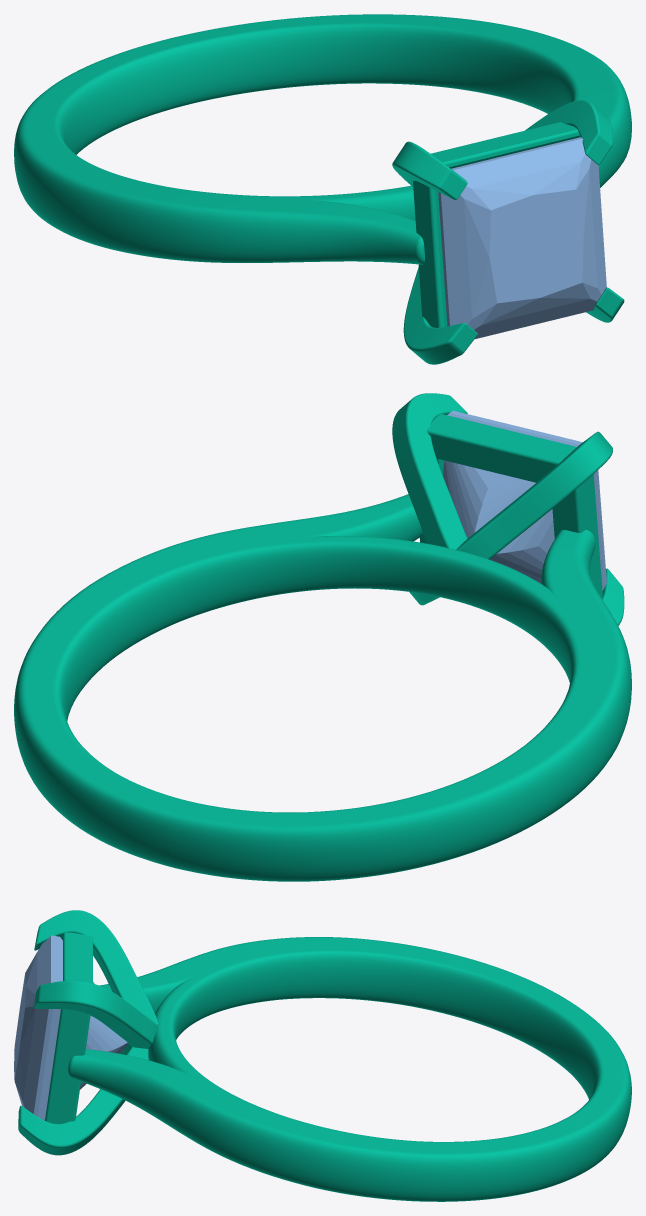
3 renders of one model, top to bottom at view 1: azimuth 30°, elevation 25°; view 2: azimuth 150°, elevation 25°; view 3: azimuth 270°, elevation 25°, orthographic. The views are drawn at different scales.
Visible parts, largest first — view 1: JTC 7972(base).3dm, Diamond_Princess; view 2: JTC 7972(base).3dm, Diamond_Princess; view 3: JTC 7972(base).3dm, Diamond_Princess.
Part boxes in pixels (<box>): JTC 7972(base).3dm: <box>14,14,631,364</box>; Diamond_Princess: <box>438,137,606,338</box>; JTC 7972(base).3dm: <box>14,393,631,881</box>; Diamond_Princess: <box>443,410,606,590</box>; JTC 7972(base).3dm: <box>18,910,631,1201</box>; Diamond_Princess: <box>14,935,128,1120</box>.
Size of the model in its own units: 2.49 by 0.9399 by 2.99.
